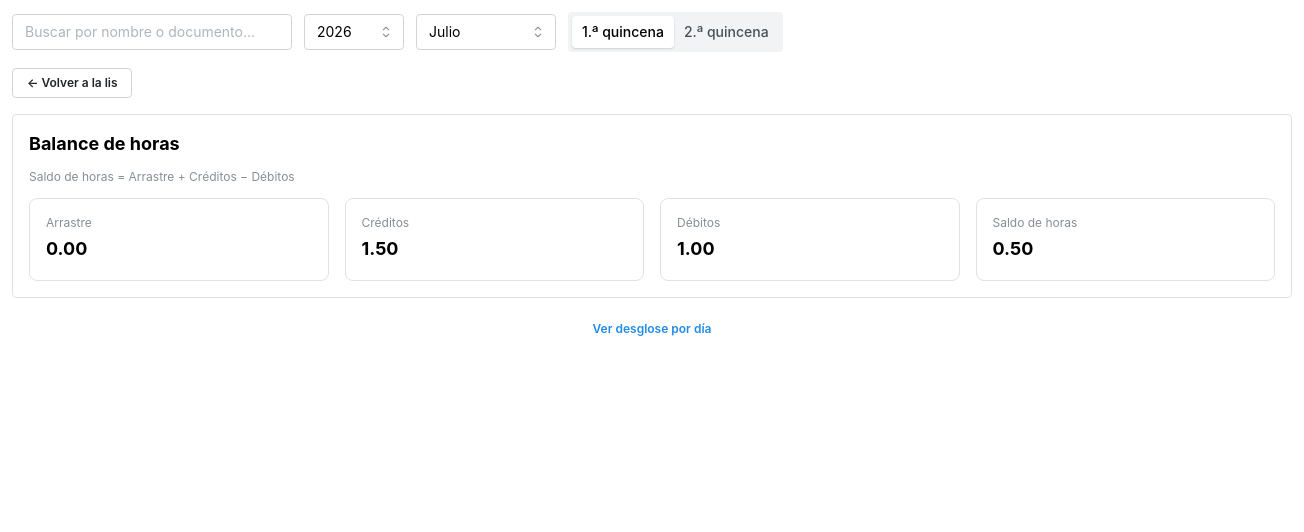
BalancePanel › shows breakdown rows after clicking the expand toggle
The width and height of the screenshot is (1304, 532).
Step 1. Click the button "Ver desglose por día" → x=652, y=329, box [12,314,1292,344]
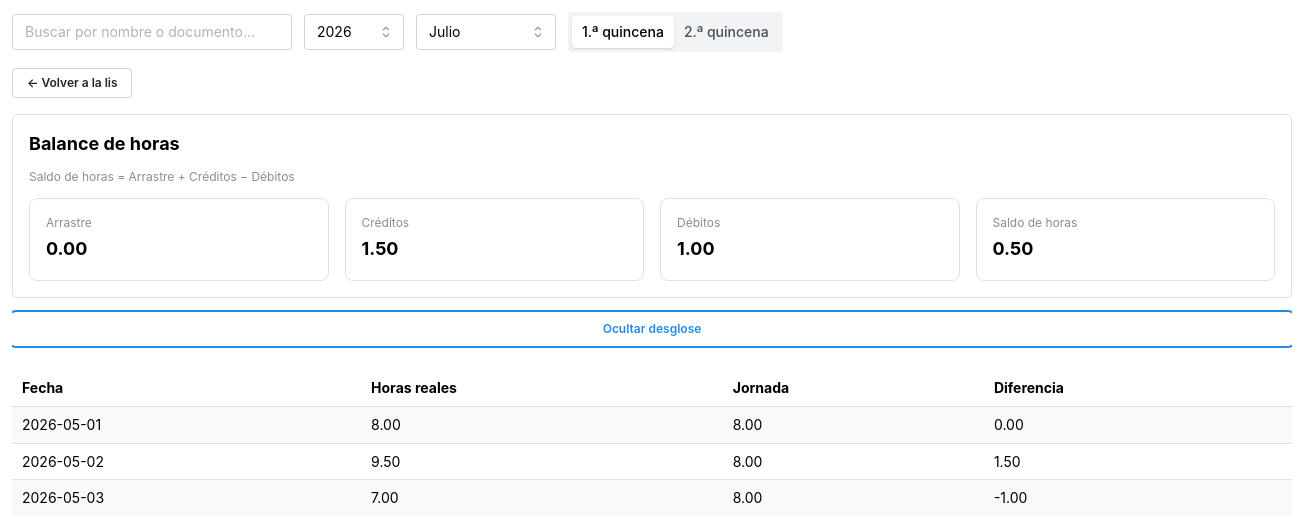
Result: the text "2026-05-01" is shown at [12,406,361,443]
Result: the text "2026-05-02" is shown at [12,443,361,480]
Result: the text "2026-05-03" is shown at [12,480,361,516]
